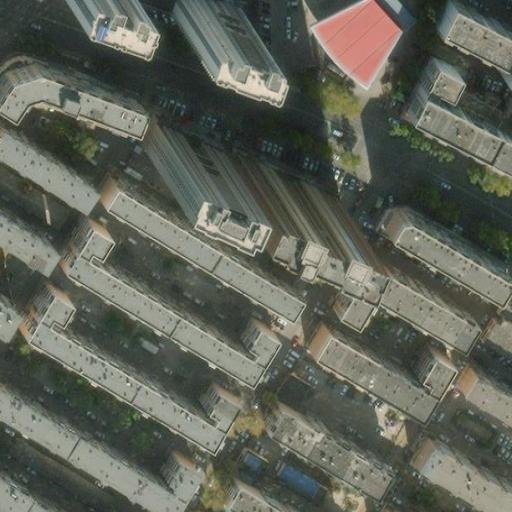building: (99, 190, 297, 327), (304, 319, 447, 412), (345, 249, 480, 346), (59, 231, 173, 339), (21, 298, 131, 402), (262, 398, 386, 488), (384, 209, 507, 295), (55, 435, 192, 512), (220, 146, 341, 222), (161, 320, 275, 393), (119, 384, 231, 457), (410, 430, 512, 510), (399, 77, 492, 146), (142, 110, 223, 171), (452, 362, 512, 420), (215, 471, 297, 512), (271, 459, 325, 503), (330, 284, 374, 328), (164, 0, 233, 26), (414, 50, 453, 90), (478, 119, 512, 163), (236, 447, 269, 479), (0, 292, 19, 336), (497, 486, 512, 512)
